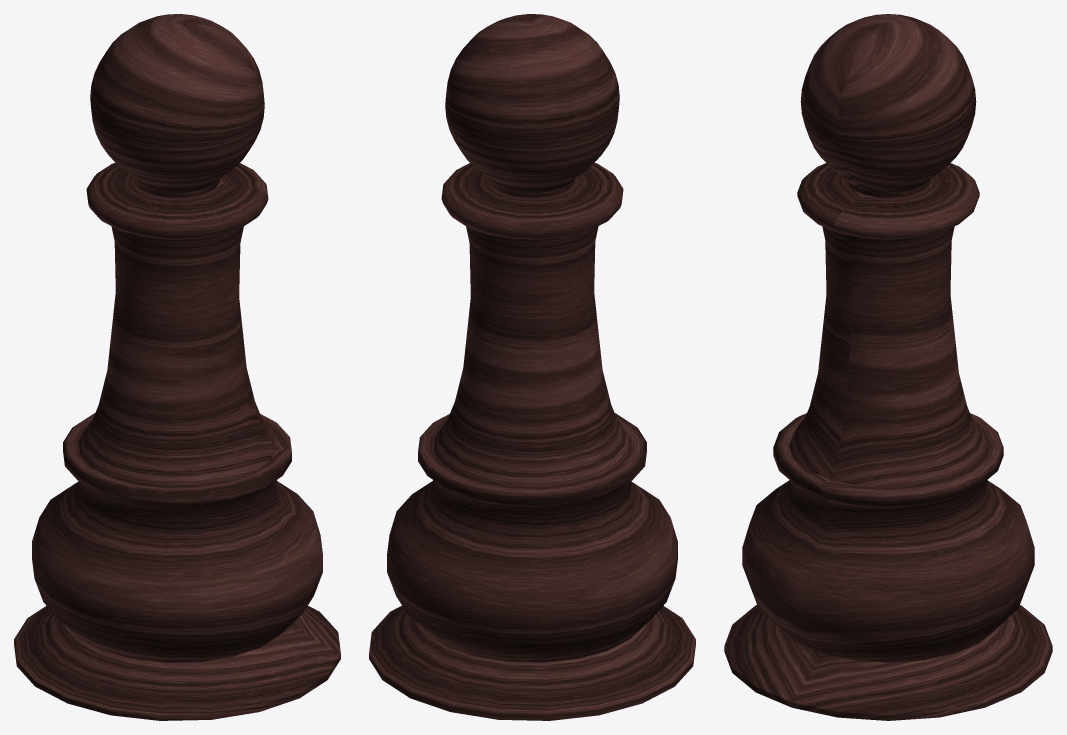
Rendered from Black_Pawn.dae.
3 renders of one model, left to right at view 1: azimuth 30°, elevation 25°; view 2: azimuth 150°, elevation 25°; view 3: azimuth 270°, elevation 25°, orthographic.
Parts seen in each view (by area): view 1: Pawn; view 2: Pawn; view 3: Pawn.
Boxes of the visible parts, bbox=[...] form: Pawn: bbox=[14, 14, 340, 720]; Pawn: bbox=[369, 14, 695, 720]; Pawn: bbox=[724, 14, 1052, 720].
Bounding box in the file's own units: 1.25 × 2.65 × 1.25.
Materials: 1 (1 with a texture image).
